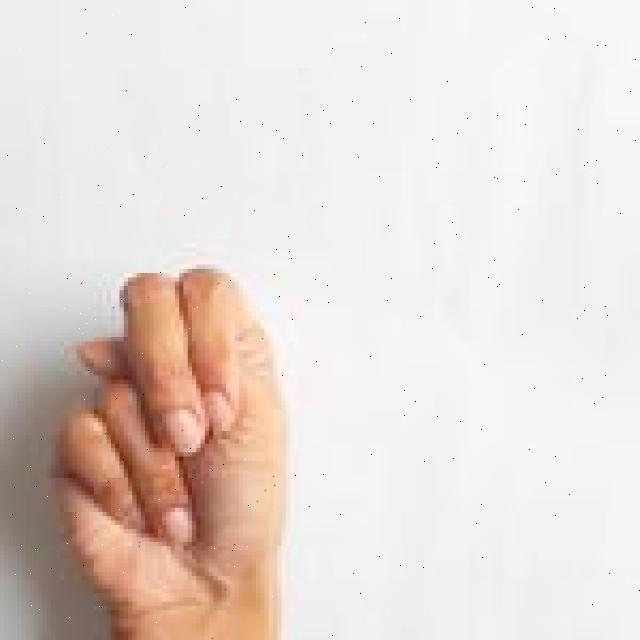N: (41, 263, 296, 640)
